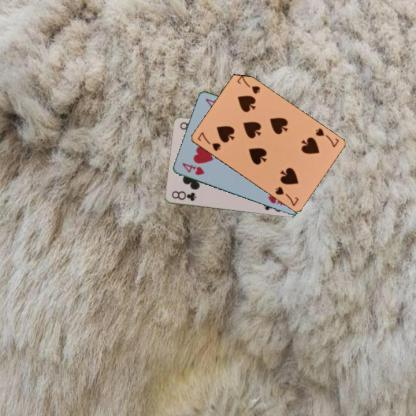4h: (179, 160, 205, 177)
7s: (195, 130, 222, 152), (313, 126, 340, 148)
8c: (169, 188, 197, 202)
